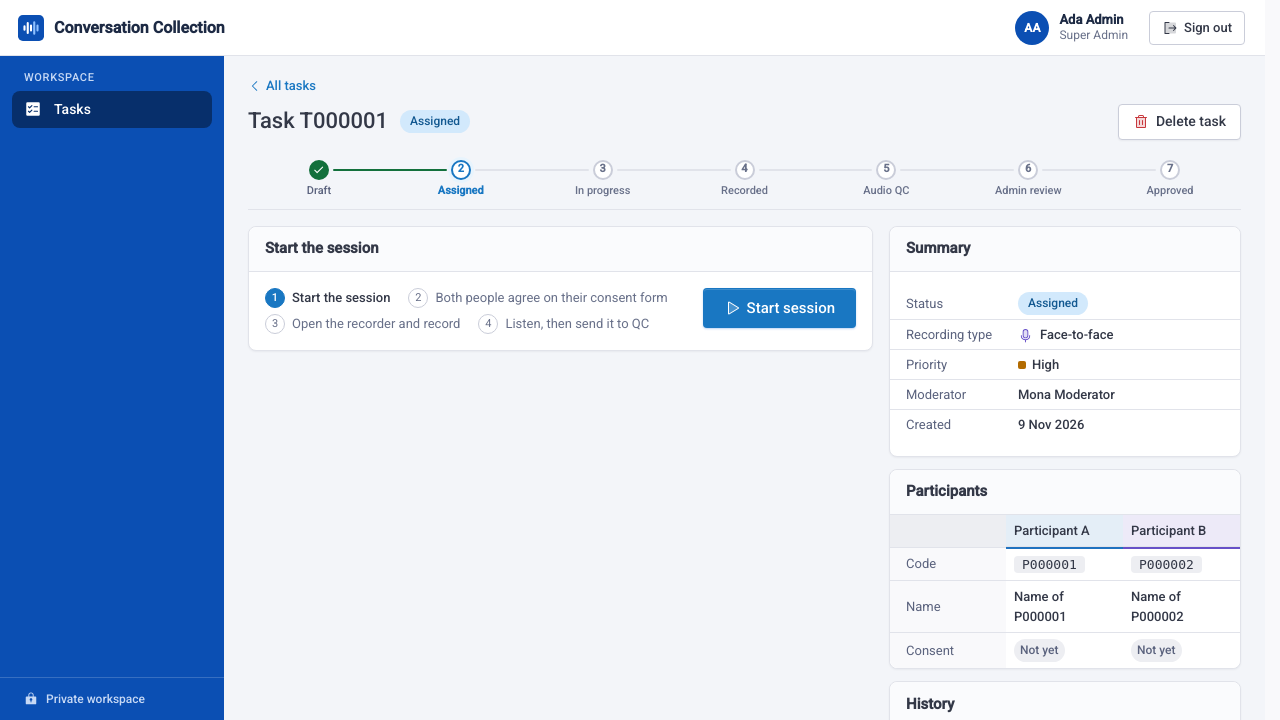
Test case: tasks › gives the moderator one button to start, then the recorder (D-091)
Click the button "Start session". click: (779,308)
box: [703,288,856,328]
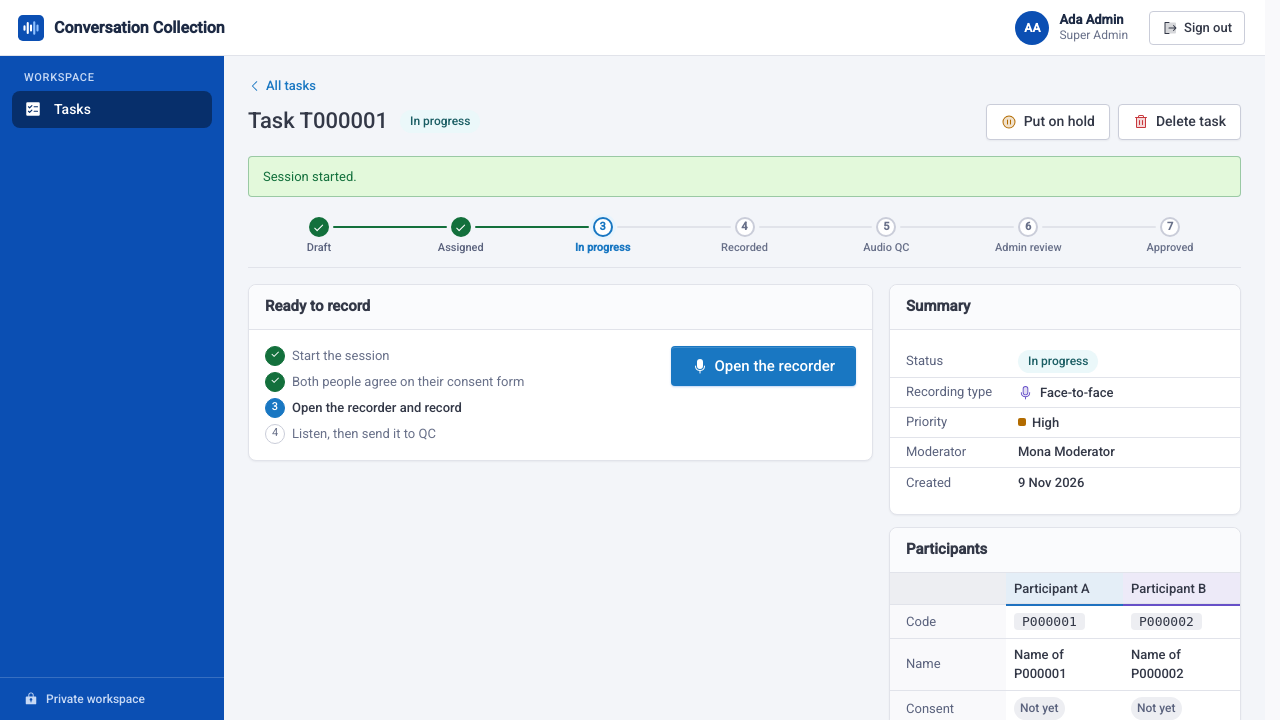
Now the text "Session started." is shown, box [248,156,1241,197]
